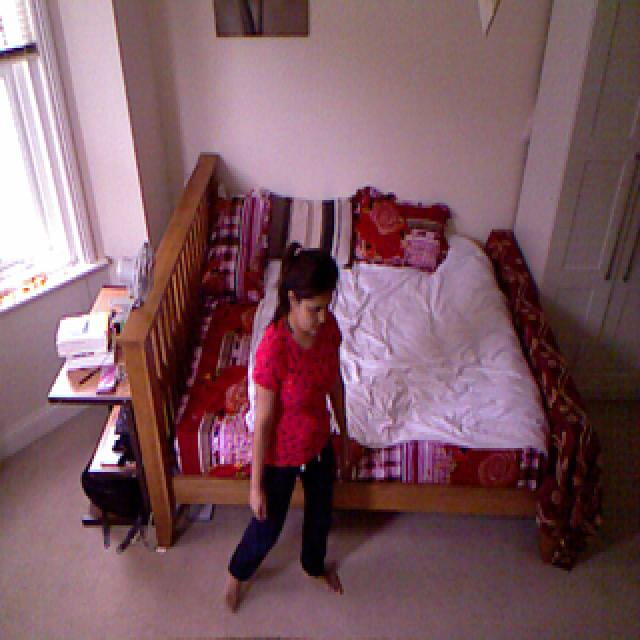standing: (218, 250, 354, 615)
